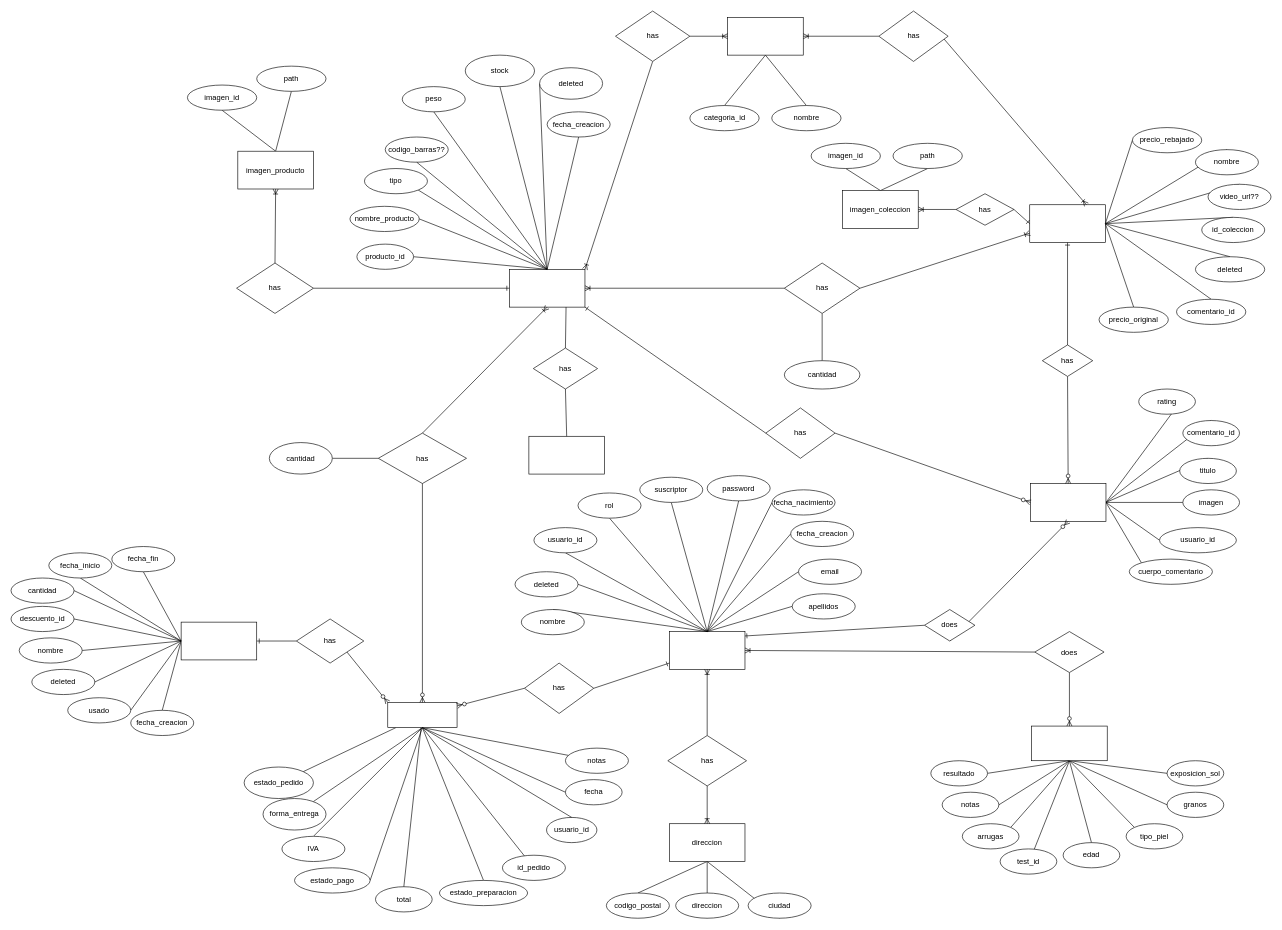
Some shapes in this 1282 by 930 pixel diagram are drawn without their labels. The centre of each missing label's shape, as x and y in pixels:
categoria: the point at 765,36
coleccion: the point at 1067,223
comentarios: the point at 1068,502
descuento: the point at 218,640
pedido: the point at 422,715
producto: the point at 547,288
proveedor: the point at 566,455
test_piel: the point at 1069,743
usuario: the point at 707,650
